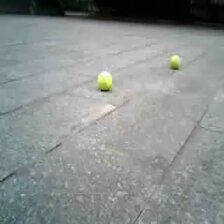tennis: (96, 71, 112, 89), (170, 55, 181, 69)
